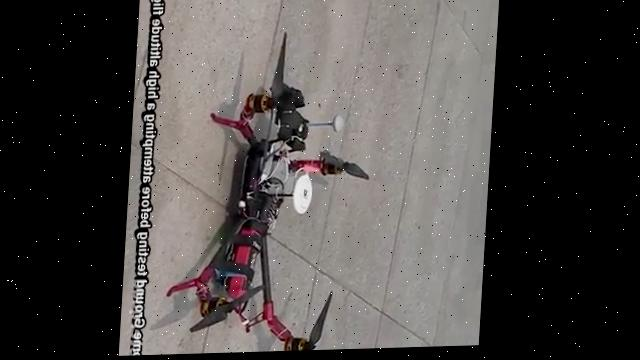drone: (164, 28, 381, 356)
